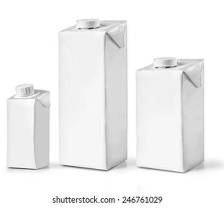carton: (55, 9, 131, 175), (133, 52, 208, 173), (3, 80, 52, 171)
